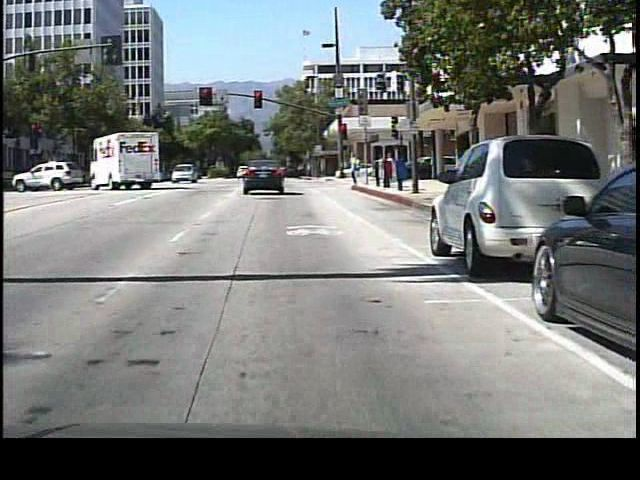person: (345, 150, 365, 192)
